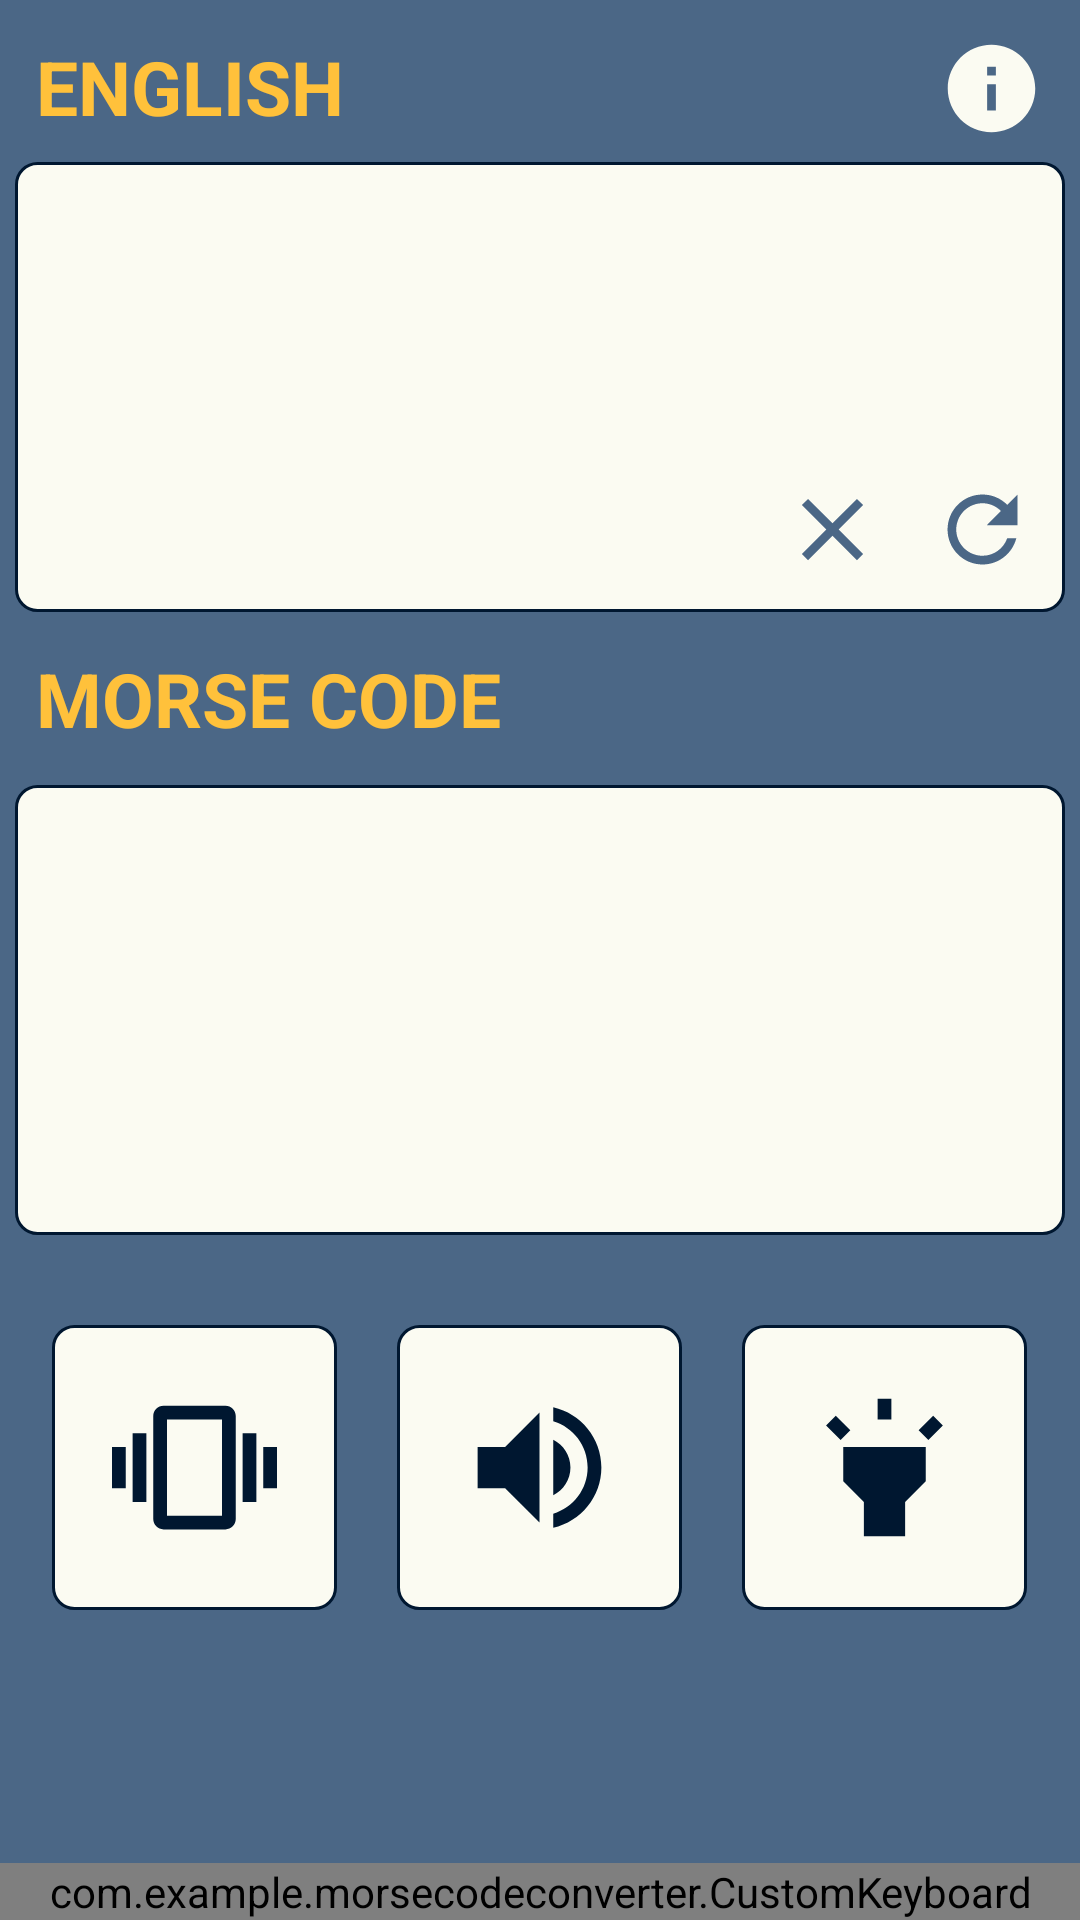

Where to tap for icons on this 1080 x 1920 app screen, as [x,y]:
clear: [832,529]
highlight: [884,1467]
info: [991,88]
tone: [539,1467]
vibration: [194,1467]
